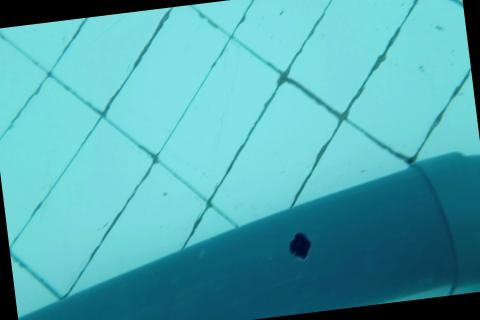kebocoran: (285, 228, 312, 263)
